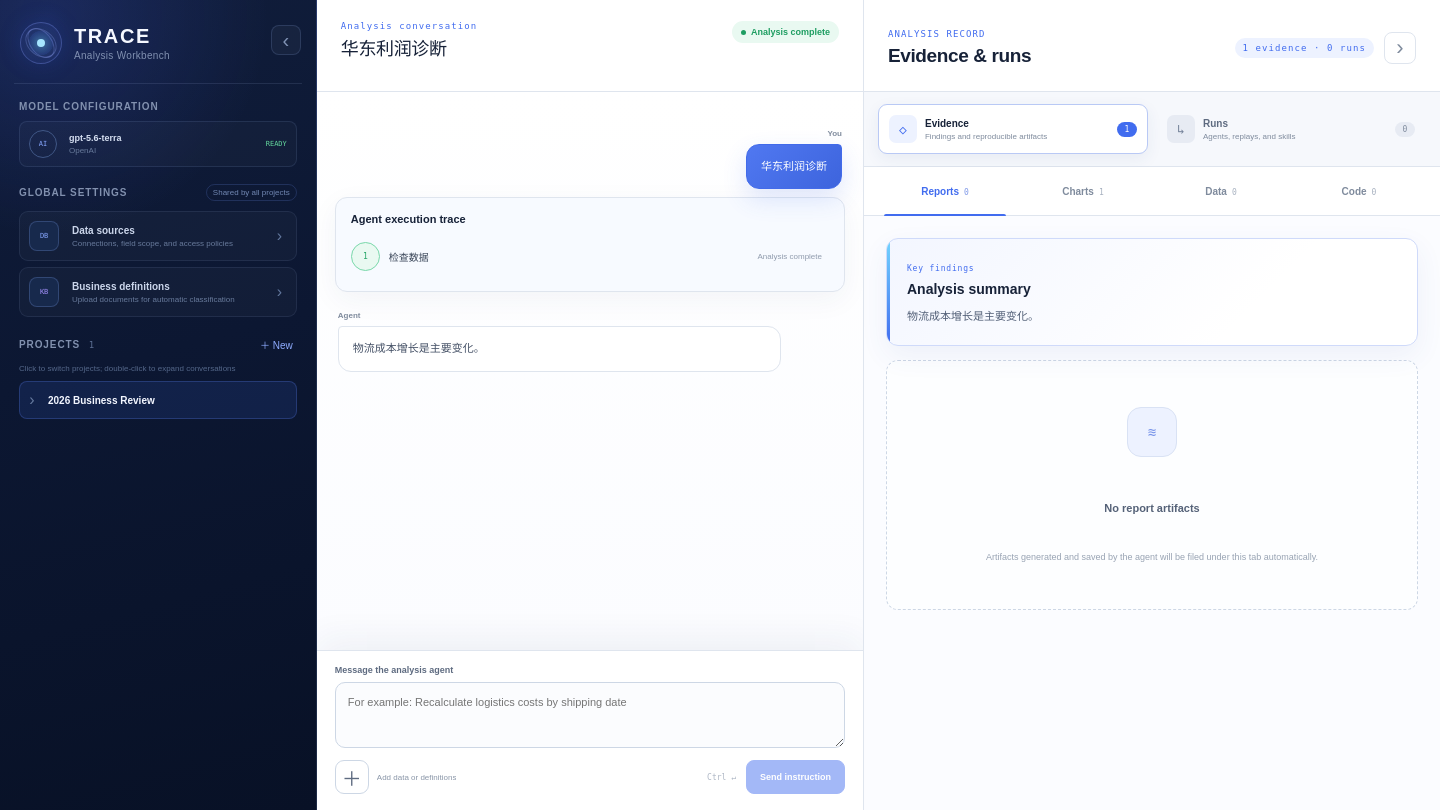
Test: analysis workbench › hides the evidence and runtime workspace and restores it on demand
Click the tab "↳ Runs Agents, replays, and skills 0". click: (1291, 129)
box: [1156,104,1426,154]
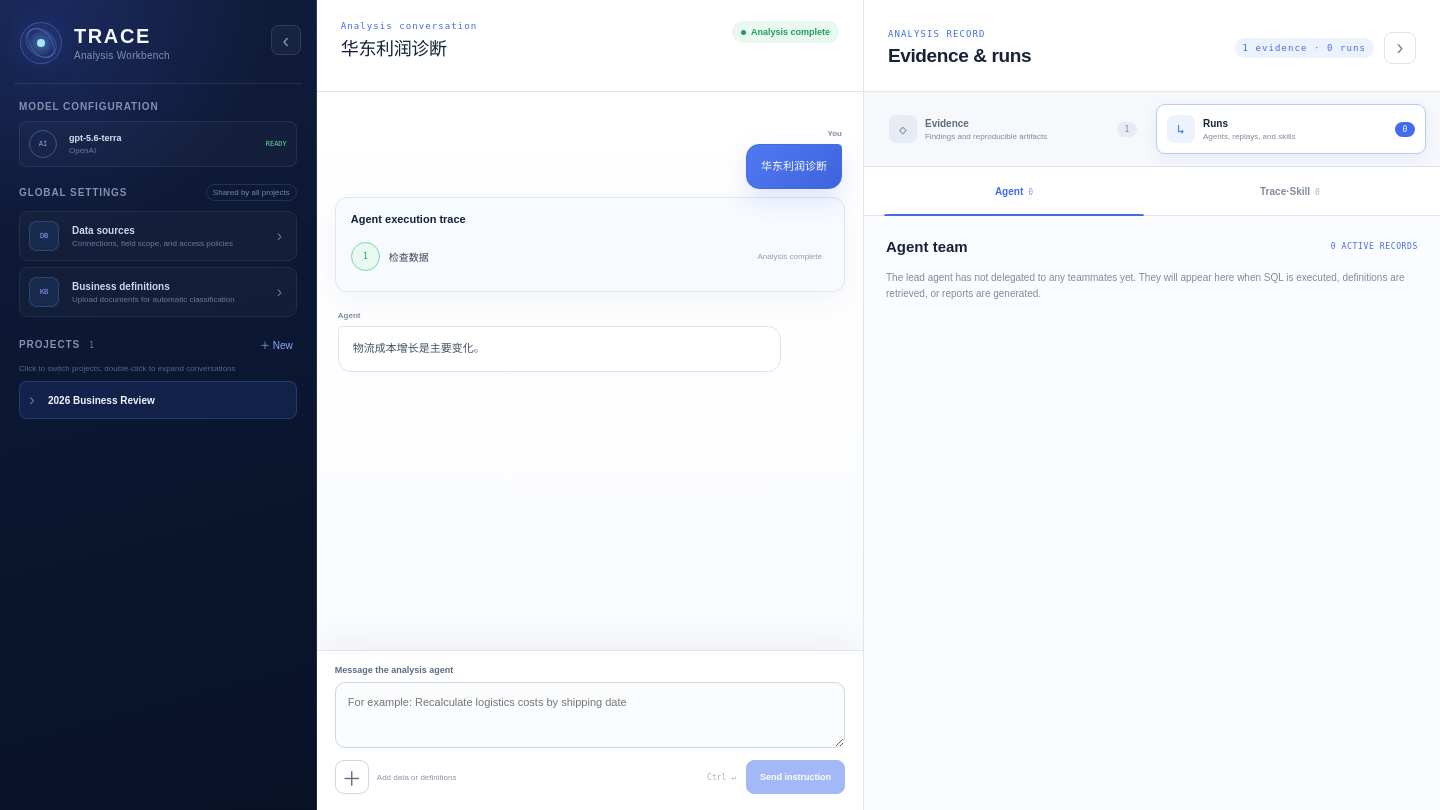
Now the tab "Agent0" is shown, box [876,167,1152,215]
Click the button named "Hide evidence and runs". click: (1400, 48)
box: [1384,32,1416,64]
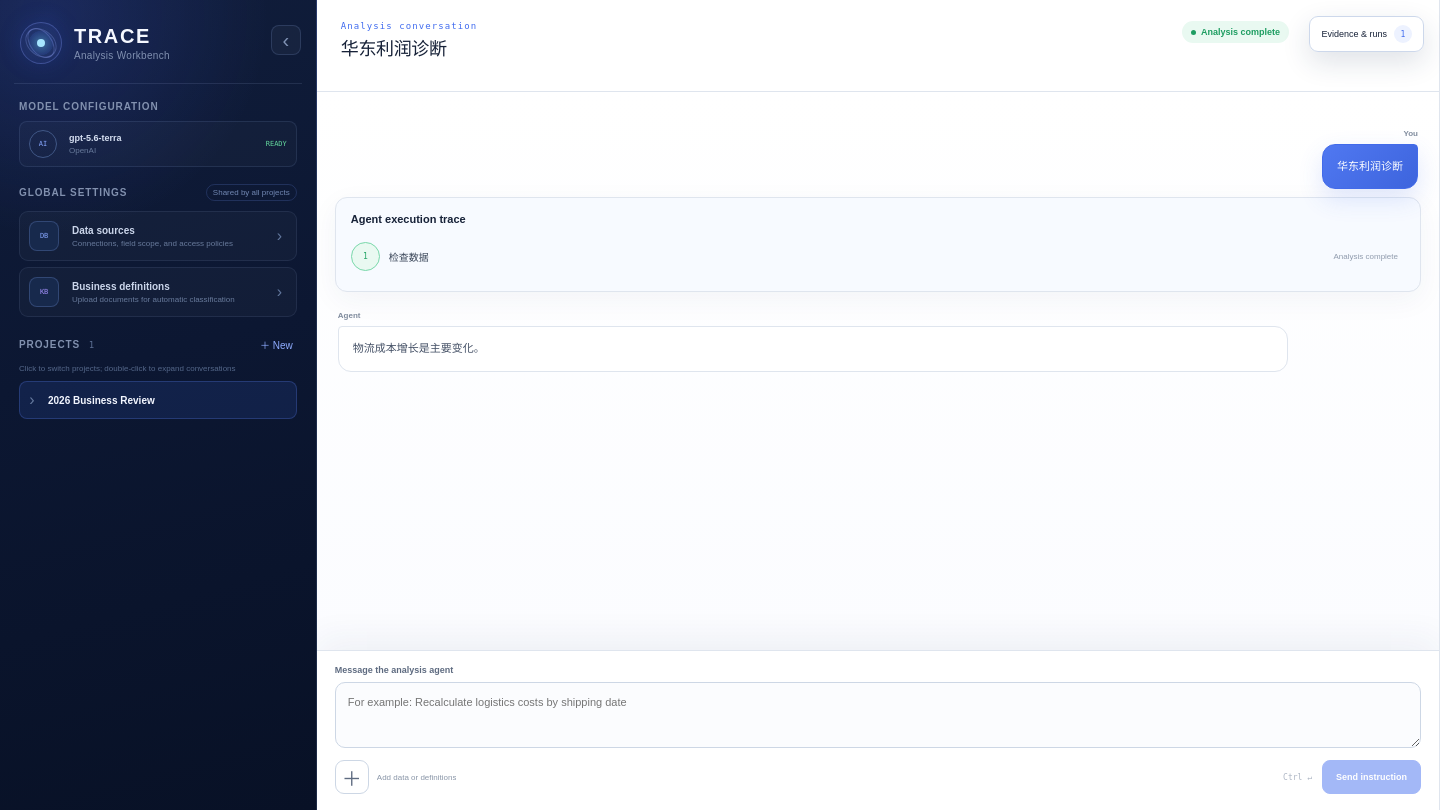
Click the button with aria-label "Open evidence and runs". click: (1367, 34)
box: [1310,16,1424,52]
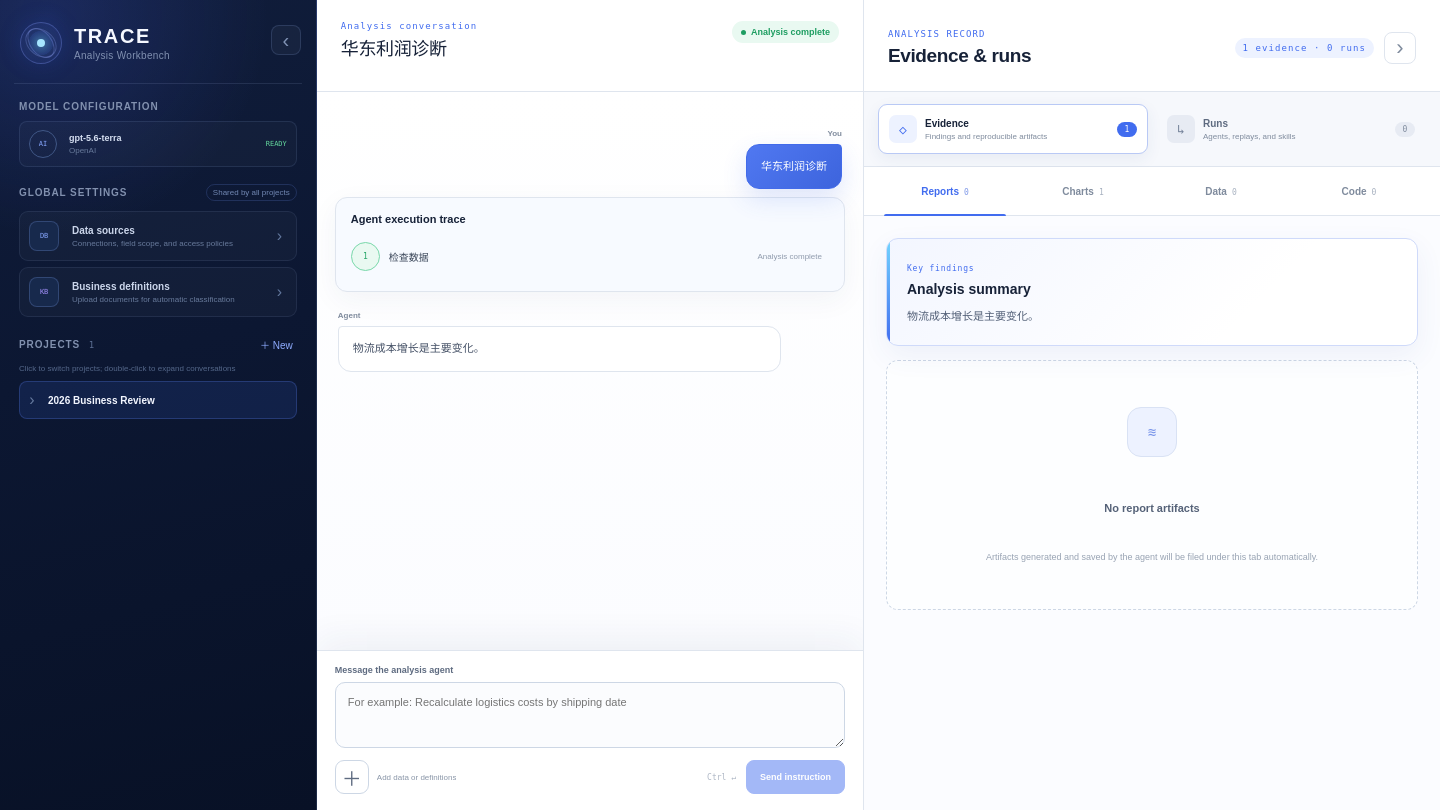
Now the element "Evidence & runs" is shown, box [864,0,1439,809]
